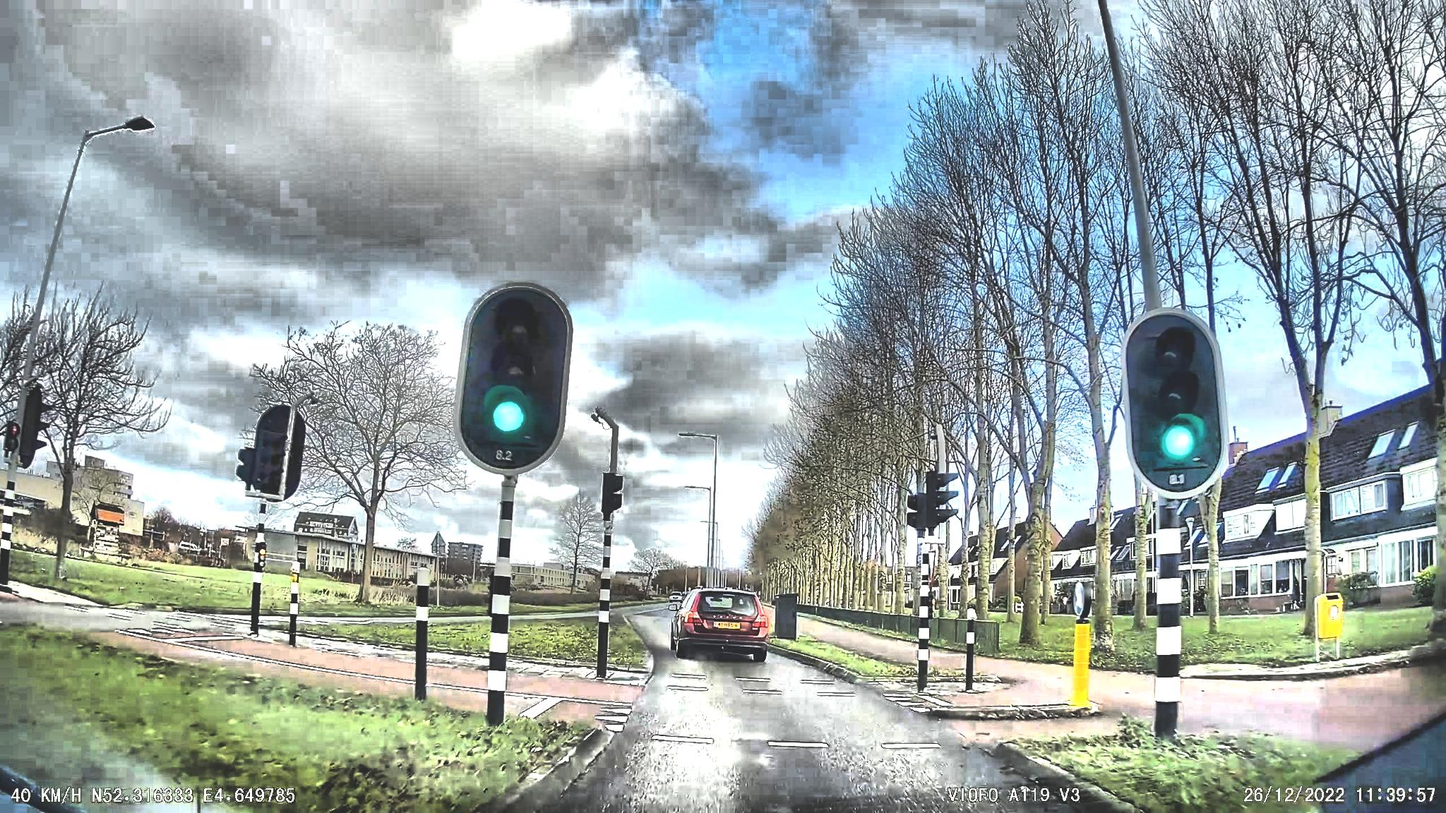Roads: (476, 651, 1144, 813)
